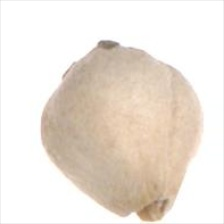L3: (118, 198, 173, 222)
L4: (40, 38, 203, 224)
